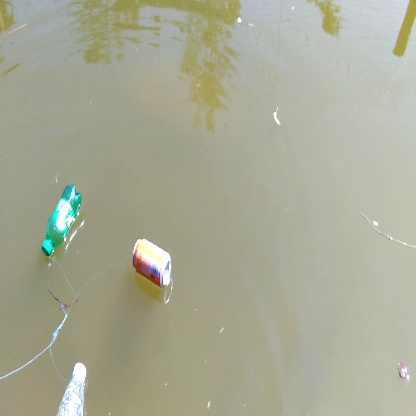bottle: (38, 182, 86, 259), (130, 233, 179, 294)
